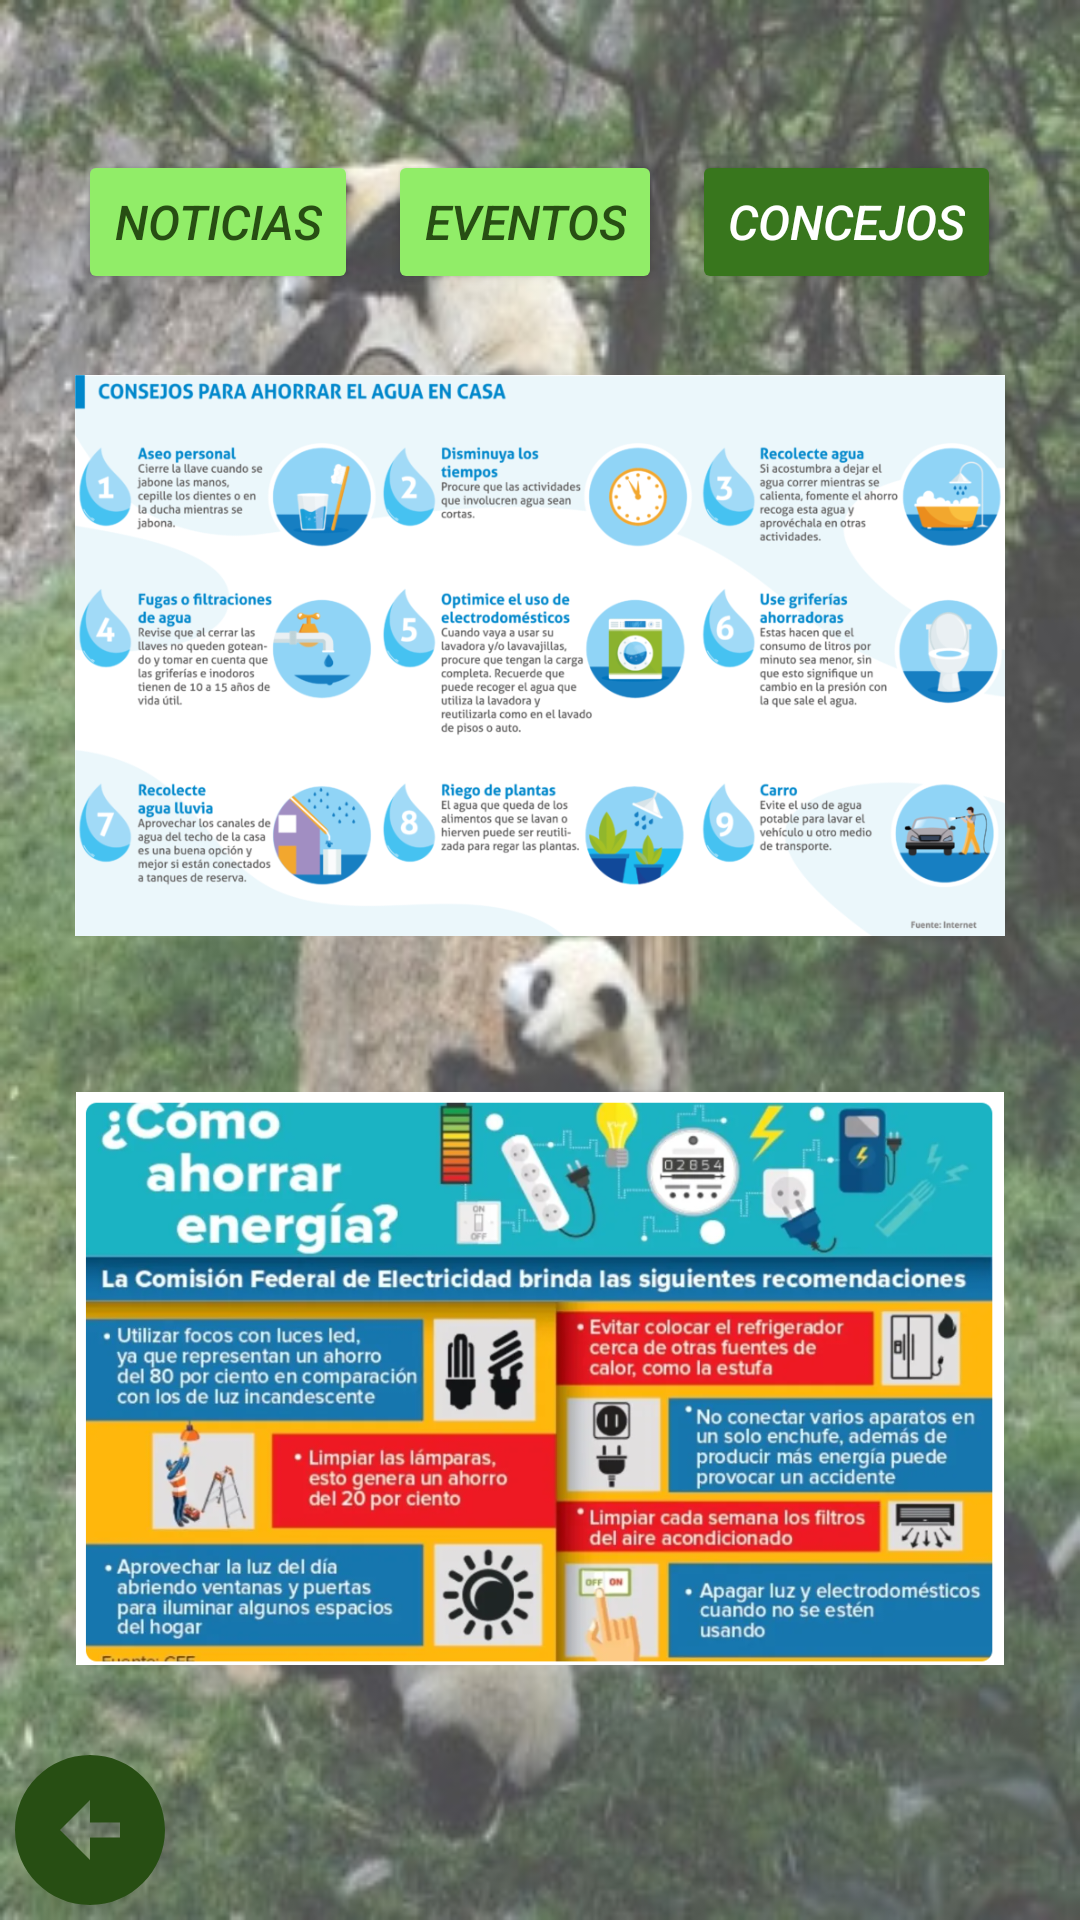

Where to tap for icons on this 1080×1920 app screen, as [x,y]:
regresar: [90,1830]
